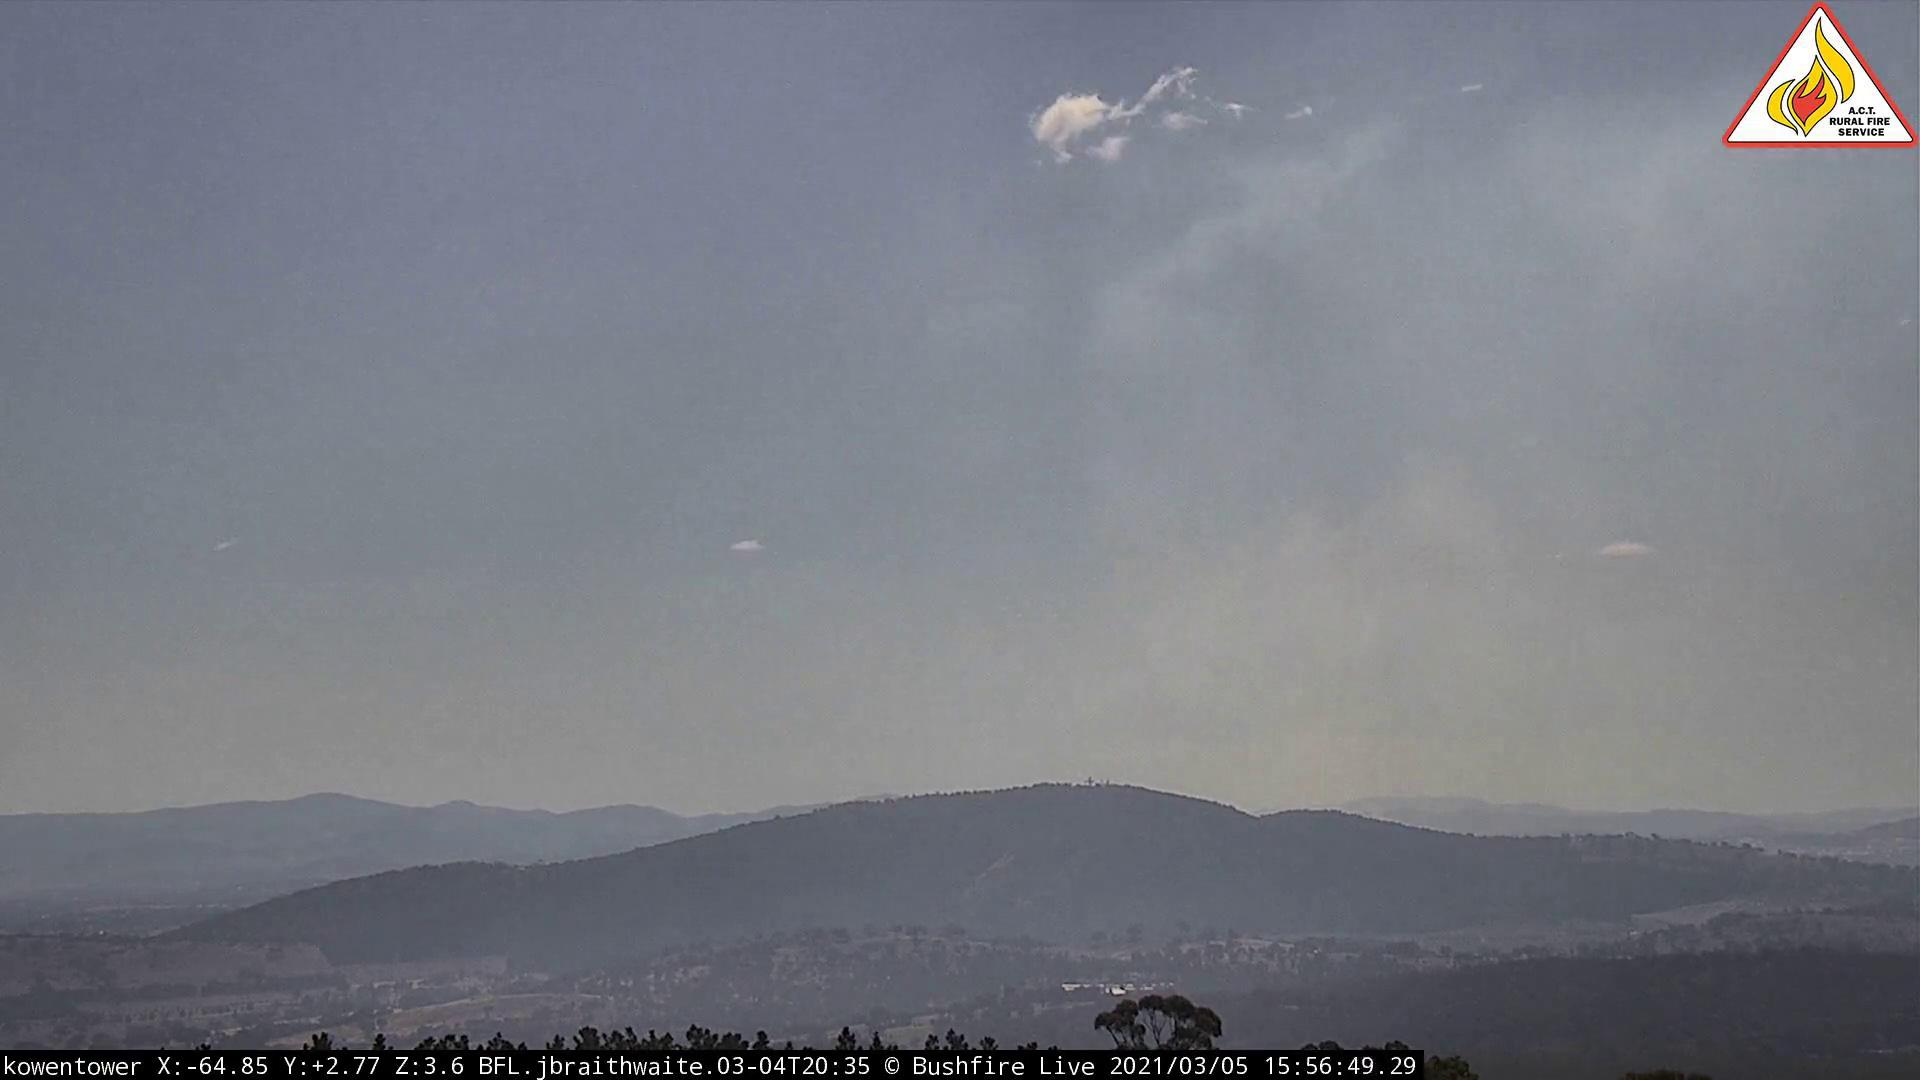Smoke: (978, 154, 1870, 822)
